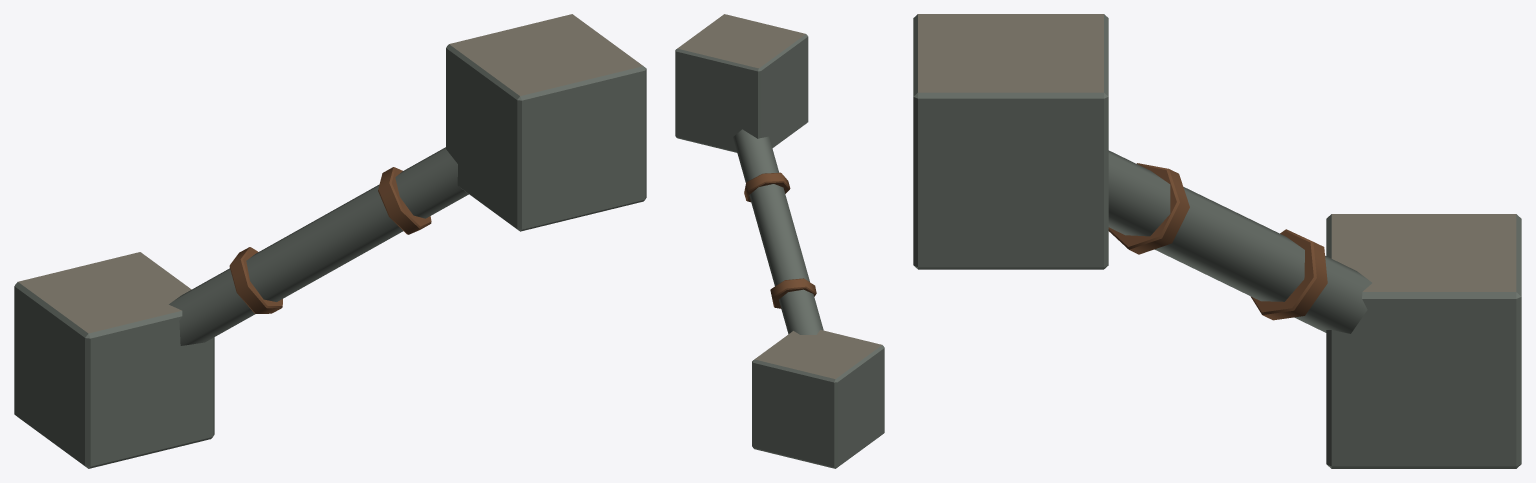
File: R4C_STRUT_DIAG_3D_LOD1.fbx
The picture shows the model from 3 angles, left to right: view 1: azimuth 30°, elevation 25°; view 2: azimuth 150°, elevation 25°; view 3: azimuth 270°, elevation 25°; orthographic projection. The views are drawn at different scales.
Parts seen in each view (by area): view 1: R4C_STRUT_DIAG_3D_LOD1; view 2: R4C_STRUT_DIAG_3D_LOD1; view 3: R4C_STRUT_DIAG_3D_LOD1.
Boxes of the visible parts, x1,y1,x2,y2 form: R4C_STRUT_DIAG_3D_LOD1: [14, 14, 646, 468]; R4C_STRUT_DIAG_3D_LOD1: [675, 14, 884, 468]; R4C_STRUT_DIAG_3D_LOD1: [913, 14, 1521, 468].
Bounding box in the file's own units: 1.62 × 1.62 × 1.62.
